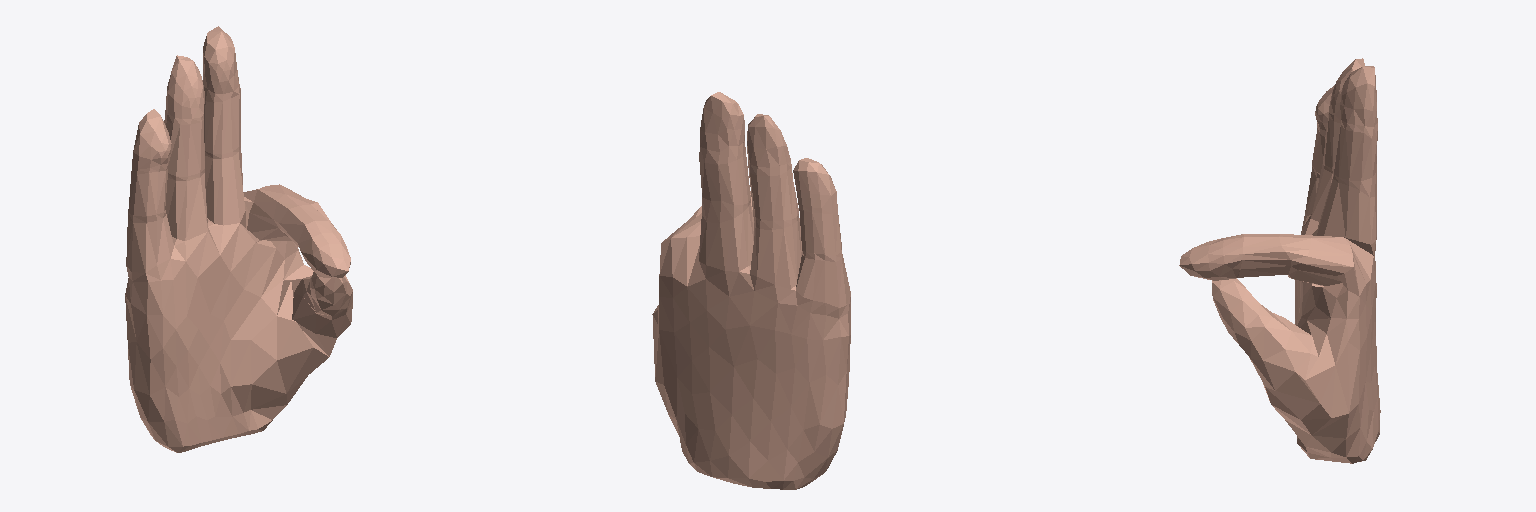
The model's file is MAO_CERTO_ABERTA.obj.
The picture shows the model from 3 angles: view 1: azimuth 30°, elevation 25°; view 2: azimuth 150°, elevation 25°; view 3: azimuth 270°, elevation 25°; orthographic projection.
Parts seen in each view (by area): view 1: mao_dir:mao_dir; view 2: mao_dir:mao_dir; view 3: mao_dir:mao_dir.
Boxes of the visible parts, <box> form: mao_dir:mao_dir: <box>125,26,352,452</box>; mao_dir:mao_dir: <box>652,92,850,489</box>; mao_dir:mao_dir: <box>1179,58,1380,463</box>.
Bounding box in the file's own units: 136 × 243 × 115.